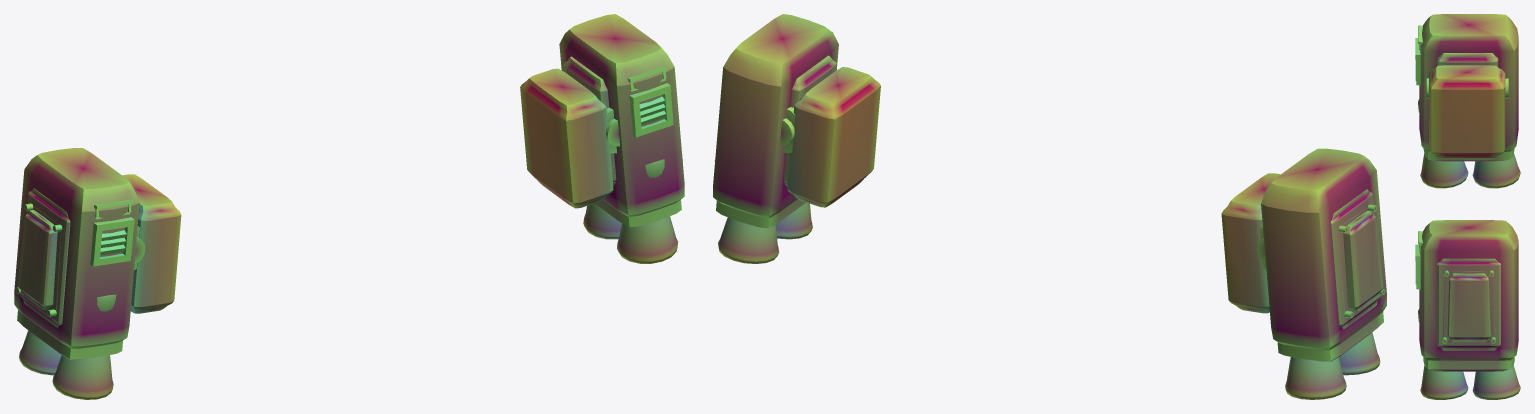
The model's file is llm_gen_leg_thrusters_010_4dcd30.glb.
3 renders of one model, left to right at view 1: azimuth 30°, elevation 25°; view 2: azimuth 150°, elevation 25°; view 3: azimuth 270°, elevation 25°, orthographic. The views are drawn at different scales.
Visible parts, largest first — view 1: hover_cowling_armor_1_adapter_dark_l, hover_cowling_armor_1_adapter_dark_r, adapter_calf_clamp_r, adapter_calf_clamp_l, hover_flank_panel_5_crimson_gloss_l, hover_bell_fwd_7_vernier_bell_vernier_l, hover_bell_fwd_7_vernier_bell_vernier_r, adapter_sub_hover_flank_dark_4_adapter_dark_l, adapter_sub_hover_manifold_dark_6_adapter_dark_l, adapter_sub_hover_intake_grille_2_dark_l, adapter_sub_hover_intake_grille_2_dark_r, hover_bell_aft_8_vernier_bell_vernier_l (+3 smaller); view 2: hover_cowling_armor_1_adapter_dark_l, hover_cowling_armor_1_adapter_dark_r, adapter_calf_clamp_r, adapter_calf_clamp_l, hover_flank_panel_5_crimson_gloss_l, hover_bell_aft_8_vernier_bell_vernier_l, hover_bell_aft_8_vernier_bell_vernier_r, adapter_sub_hover_flank_dark_4_adapter_dark_l, adapter_sub_hover_manifold_dark_6_adapter_dark_l, hover_bell_fwd_7_vernier_bell_vernier_l, hover_core_mount_0_adapter_dark_r, adapter_sub_hover_manifold_dark_6_adapter_dark_r (+1 smaller); view 3: hover_cowling_armor_1_adapter_dark_r, adapter_calf_clamp_l, hover_cowling_armor_1_adapter_dark_l, hover_flank_panel_5_crimson_gloss_r, adapter_sub_hover_flank_dark_4_adapter_dark_r, hover_bell_aft_8_vernier_bell_vernier_r, hover_bell_fwd_7_vernier_bell_vernier_r, hover_bell_aft_8_vernier_bell_vernier_l, hover_bell_fwd_7_vernier_bell_vernier_l, adapter_sub_hover_manifold_dark_6_adapter_dark_r, hover_core_mount_0_adapter_dark_l, adapter_sub_hover_manifold_dark_6_adapter_dark_l (+3 smaller).
Boxes of the visible parts, x1,y1,x2,y2 form: hover_cowling_armor_1_adapter_dark_l: (14, 148, 139, 348); hover_cowling_armor_1_adapter_dark_r: (559, 14, 684, 216); adapter_calf_clamp_r: (520, 68, 616, 208); adapter_calf_clamp_l: (122, 174, 181, 313); hover_flank_panel_5_crimson_gloss_l: (16, 203, 62, 316); hover_bell_fwd_7_vernier_bell_vernier_l: (52, 355, 113, 399); hover_bell_fwd_7_vernier_bell_vernier_r: (617, 216, 677, 263); adapter_sub_hover_flank_dark_4_adapter_dark_l: (20, 188, 70, 327); adapter_sub_hover_manifold_dark_6_adapter_dark_l: (17, 310, 122, 359); adapter_sub_hover_intake_grille_2_dark_l: (90, 217, 134, 266); adapter_sub_hover_intake_grille_2_dark_r: (629, 83, 673, 137); hover_bell_aft_8_vernier_bell_vernier_l: (19, 330, 61, 375); hover_cowling_armor_1_adapter_dark_l: (1261, 148, 1386, 350); hover_cowling_armor_1_adapter_dark_r: (713, 14, 838, 217); adapter_calf_clamp_r: (783, 67, 880, 207); adapter_calf_clamp_l: (1221, 173, 1280, 313); hover_flank_panel_5_crimson_gloss_l: (1338, 204, 1385, 318); hover_bell_aft_8_vernier_bell_vernier_l: (1285, 357, 1346, 399); hover_bell_aft_8_vernier_bell_vernier_r: (718, 217, 779, 263); adapter_sub_hover_flank_dark_4_adapter_dark_l: (1330, 189, 1381, 329); adapter_sub_hover_manifold_dark_6_adapter_dark_l: (1277, 311, 1383, 361); hover_bell_fwd_7_vernier_bell_vernier_l: (1339, 332, 1380, 375); hover_core_mount_0_adapter_dark_r: (784, 55, 836, 186); adapter_sub_hover_manifold_dark_6_adapter_dark_r: (716, 199, 805, 228); hover_cowling_armor_1_adapter_dark_r: (1419, 220, 1518, 360); adapter_calf_clamp_l: (1429, 65, 1505, 157); hover_cowling_armor_1_adapter_dark_l: (1419, 14, 1518, 151); hover_flank_panel_5_crimson_gloss_r: (1442, 270, 1495, 343); adapter_sub_hover_flank_dark_4_adapter_dark_r: (1437, 258, 1500, 350); hover_bell_aft_8_vernier_bell_vernier_r: (1472, 366, 1520, 399); hover_bell_fwd_7_vernier_bell_vernier_r: (1420, 365, 1468, 399); hover_bell_aft_8_vernier_bell_vernier_l: (1472, 153, 1520, 188); hover_bell_fwd_7_vernier_bell_vernier_l: (1420, 154, 1468, 188); adapter_sub_hover_manifold_dark_6_adapter_dark_r: (1423, 357, 1514, 371); hover_core_mount_0_adapter_dark_l: (1437, 53, 1498, 66); adapter_sub_hover_manifold_dark_6_adapter_dark_l: (1423, 148, 1514, 161).
Bounding box in the file's own units: 82.74 × 25.73 × 15.18.
